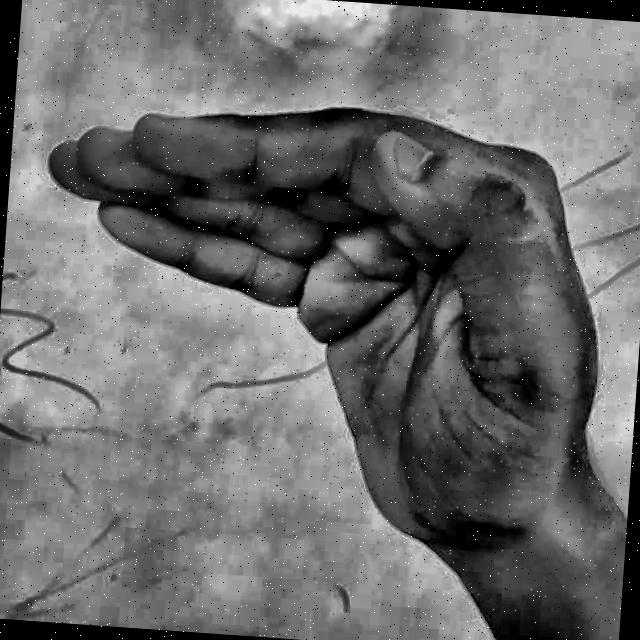Ga: (11, 29, 636, 610)
